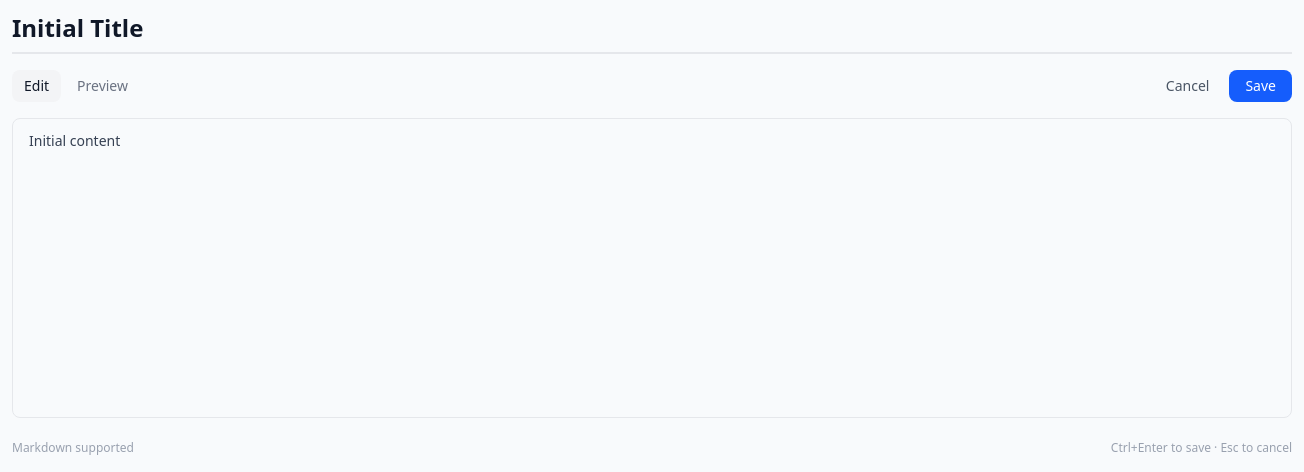
Test: WikiEditor › shows preview pane when Preview is clicked
Click the button "Preview".
click(103, 86)  # box [65,70,140,102]
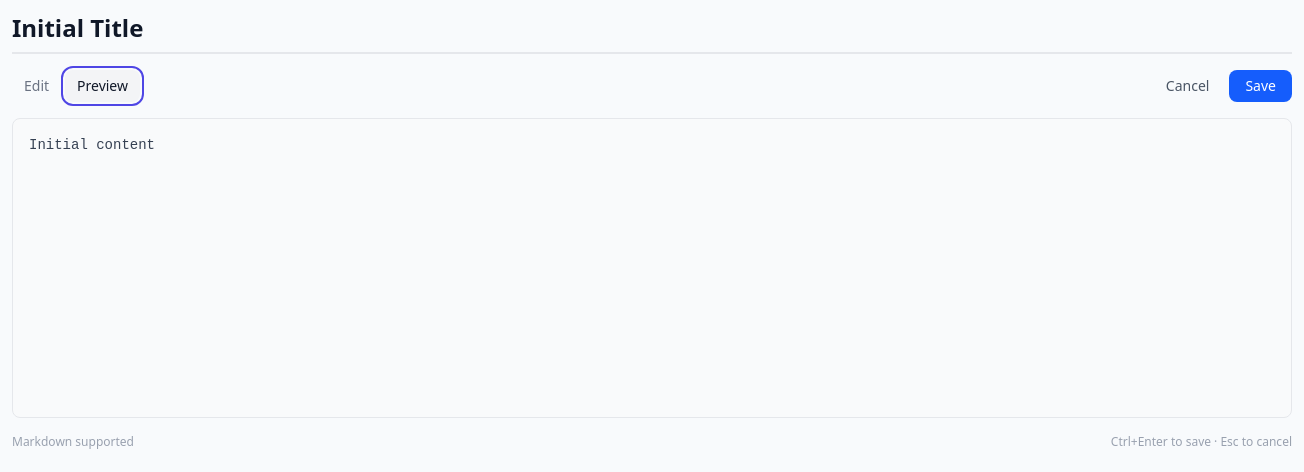
Result: the text "Initial content" is shown at [29,137,155,153]
